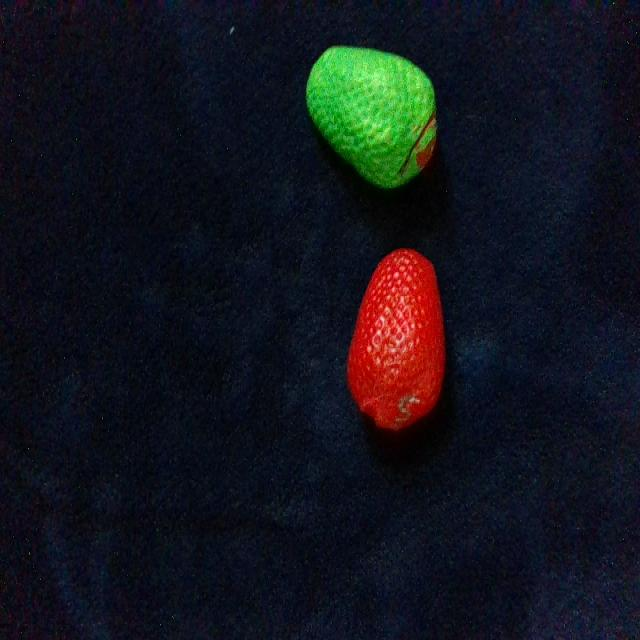grande_roja: (348, 249, 445, 429)
verde: (306, 47, 436, 188)
